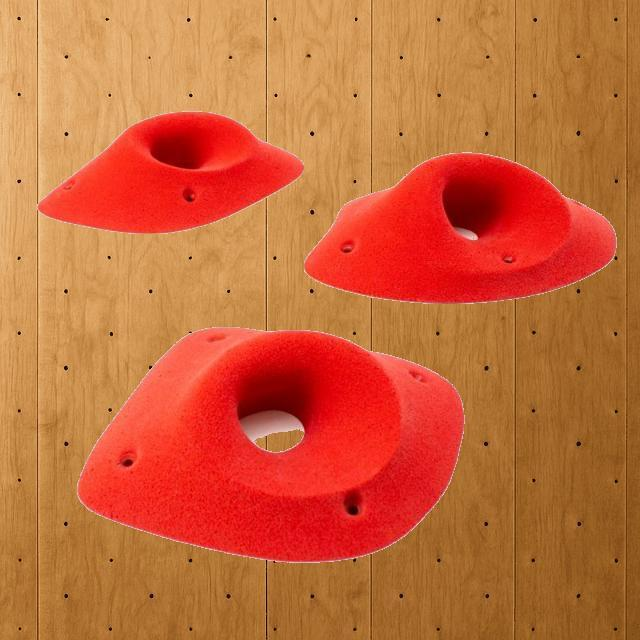Pocket: (76, 326, 464, 562), (304, 150, 616, 304), (36, 108, 304, 234)
